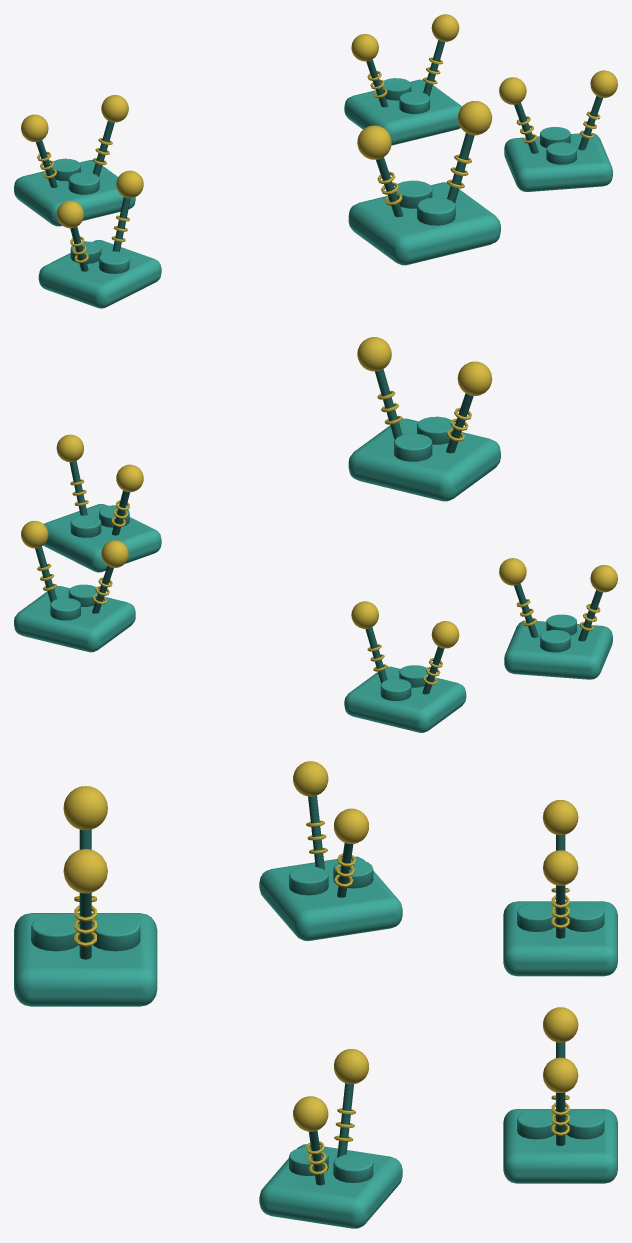
The model's file is out-of-towners-lod0.glb.
The picture shows the model from 3 angles, top to bottom: view 1: azimuth 30°, elevation 25°; view 2: azimuth 150°, elevation 25°; view 3: azimuth 270°, elevation 25°; orthographic projection. The views are drawn at different scales.
Visible parts, largest first — view 1: cap_hat, att2_hat, att3_hat, att0_hat, att1_hat; view 2: cap_hat, att1_hat, att0_hat, att3_hat, att2_hat; view 3: cap_hat, att3_hat, att2_hat, att1_hat, att0_hat.
Part boxes in pixels (x1=…): cap_hat: x1=348, y1=101, x2=500, y2=265; att2_hat: x1=499, y1=70, x2=617, y2=191; att3_hat: x1=38, y1=170, x2=161, y2=308; att0_hat: x1=344, y1=14, x2=461, y2=145; att1_hat: x1=14, y1=95, x2=135, y2=226; cap_hat: x1=348, y1=337, x2=500, y2=501; att1_hat: x1=344, y1=601, x2=466, y2=732; att0_hat: x1=14, y1=520, x2=135, y2=652; att3_hat: x1=499, y1=558, x2=617, y2=679; att2_hat: x1=43, y1=434, x2=161, y2=572; cap_hat: x1=14, y1=786, x2=157, y2=1006; att3_hat: x1=259, y1=761, x2=402, y2=940; att2_hat: x1=259, y1=1049, x2=402, y2=1228; att1_hat: x1=503, y1=800, x2=617, y2=976; att0_hat: x1=503, y1=1007, x2=617, y2=1183.
Size of the model in its own units: 2.1 by 0.6643 by 1.53.
